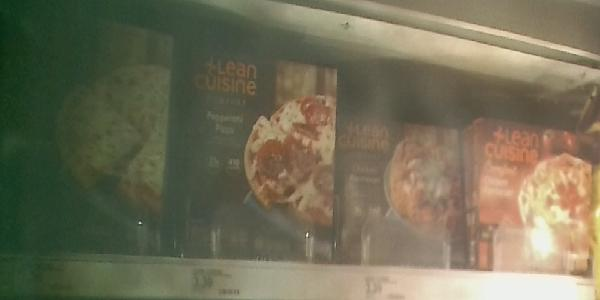pizza1: (10, 12, 164, 254), (185, 42, 333, 266), (338, 116, 467, 272), (473, 120, 595, 279)
